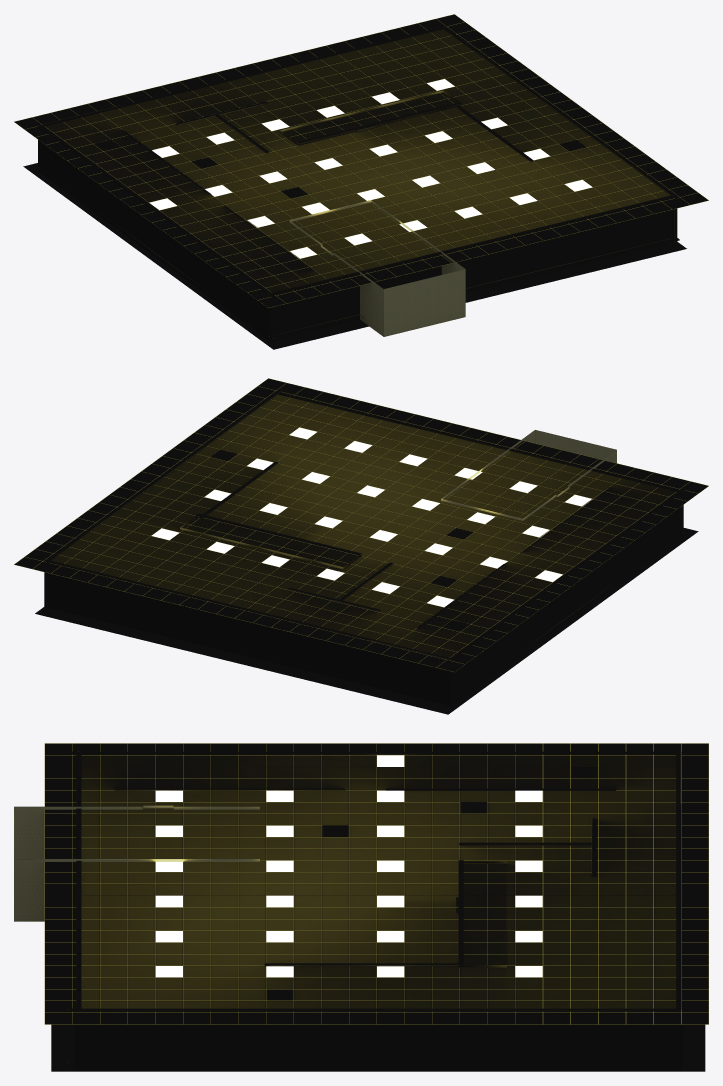
Rendered from backrooms.glb.
3 views of the same model, one above another, from view 1: azimuth 30°, elevation 25°; view 2: azimuth 150°, elevation 25°; view 3: azimuth 270°, elevation 25° (orthographic). The views are drawn at different scales.
Visible parts, largest first — view 1: Ceiling_6, BackWall_Double_BR.028_3, Air_Vent.005_5, Piece1_2, Carpet_v1.001_4; view 2: Ceiling_6, BackWall_Double_BR.028_3, Air_Vent.005_5, Carpet_v1.001_4, Piece1_2; view 3: Ceiling_6, BackWall_Double_BR.028_3, Air_Vent.005_5, Piece1_2, Carpet_v1.001_4.
Boxes of the visible parts, box(x1,y1,x2,y2) form: Ceiling_6: box(14, 14, 708, 307); BackWall_Double_BR.028_3: box(37, 26, 679, 341); Air_Vent.005_5: box(15, 14, 708, 307); Piece1_2: box(289, 200, 465, 336); Carpet_v1.001_4: box(23, 163, 686, 349); Ceiling_6: box(14, 378, 708, 671); BackWall_Double_BR.028_3: box(44, 389, 686, 706); Air_Vent.005_5: box(14, 378, 708, 672); Carpet_v1.001_4: box(35, 528, 698, 714); Piece1_2: box(441, 430, 616, 520); Ceiling_6: box(45, 743, 708, 1024); BackWall_Double_BR.028_3: box(68, 751, 682, 1070); Air_Vent.005_5: box(44, 743, 708, 1024); Piece1_2: box(14, 805, 259, 921); Carpet_v1.001_4: box(51, 1024, 705, 1071).
Size of the model in its own units: 54.71 by 5.75 by 57.25.
11 materials, 9 textured.
